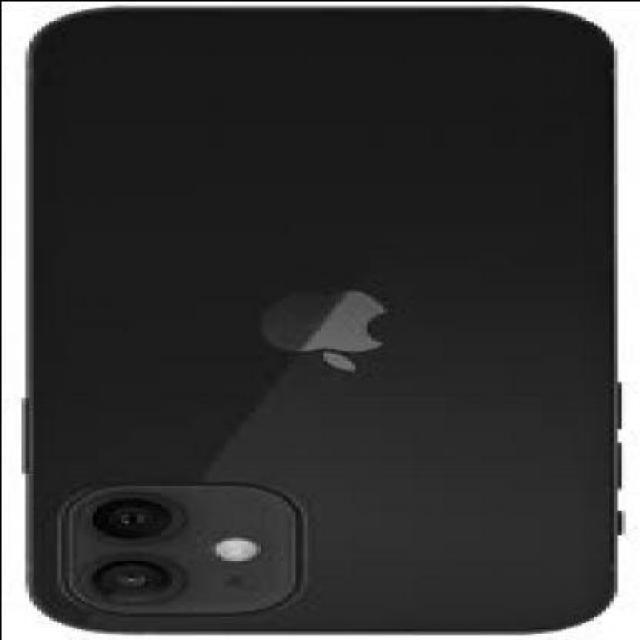fake: (19, 4, 616, 632)
